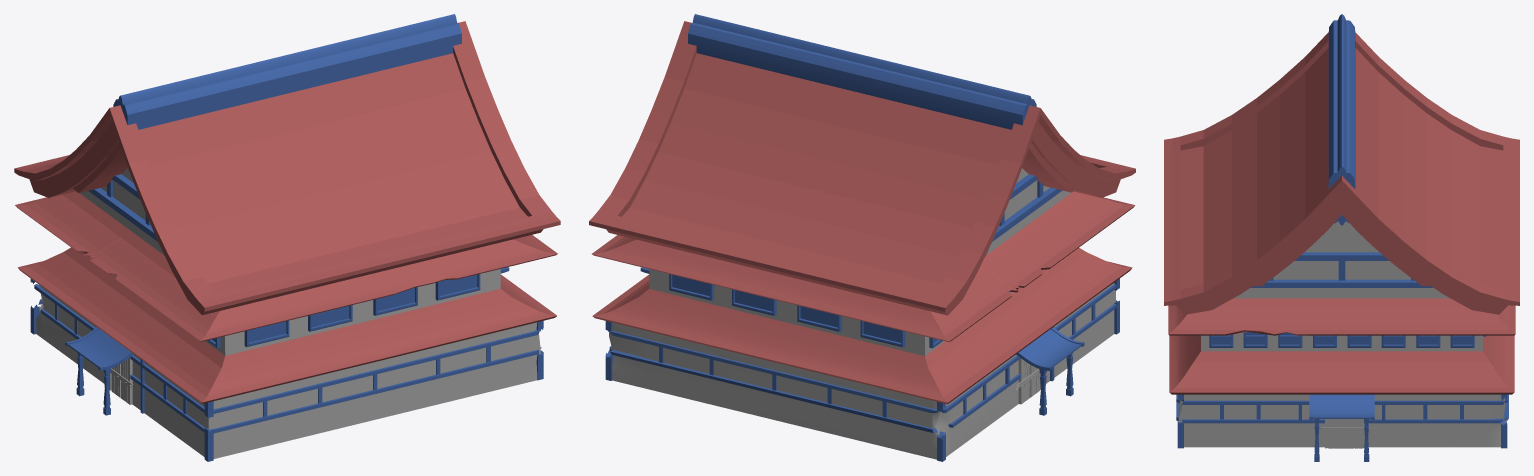
The model's file is 3dm_House2_01a.fbx.
The picture shows the model from 3 angles, left to right: view 1: azimuth 30°, elevation 25°; view 2: azimuth 150°, elevation 25°; view 3: azimuth 270°, elevation 25°; orthographic projection. The views are drawn at different scales.
Visible parts, largest first — view 1: polySurface6, pPlane4, polySurface1, group8; view 2: polySurface6, pPlane4, polySurface1, group8; view 3: polySurface6, polySurface1, pPlane4, pCube51.
Boxes of the visible parts, <box> form: polySurface6: <box>14,21,560,403</box>; pPlane4: <box>30,14,543,461</box>; polySurface1: <box>36,168,540,458</box>; group8: <box>109,357,132,404</box>; polySurface6: <box>589,21,1135,404</box>; pPlane4: <box>605,14,1119,461</box>; polySurface1: <box>609,168,1115,459</box>; group8: <box>1016,358,1040,404</box>; polySurface6: <box>1164,32,1519,394</box>; polySurface1: <box>1178,221,1505,447</box>; pPlane4: <box>1176,14,1508,461</box>; pCube51: <box>1319,419,1370,448</box>.
Size of the model in its own units: 1843 by 1301 by 1486.
